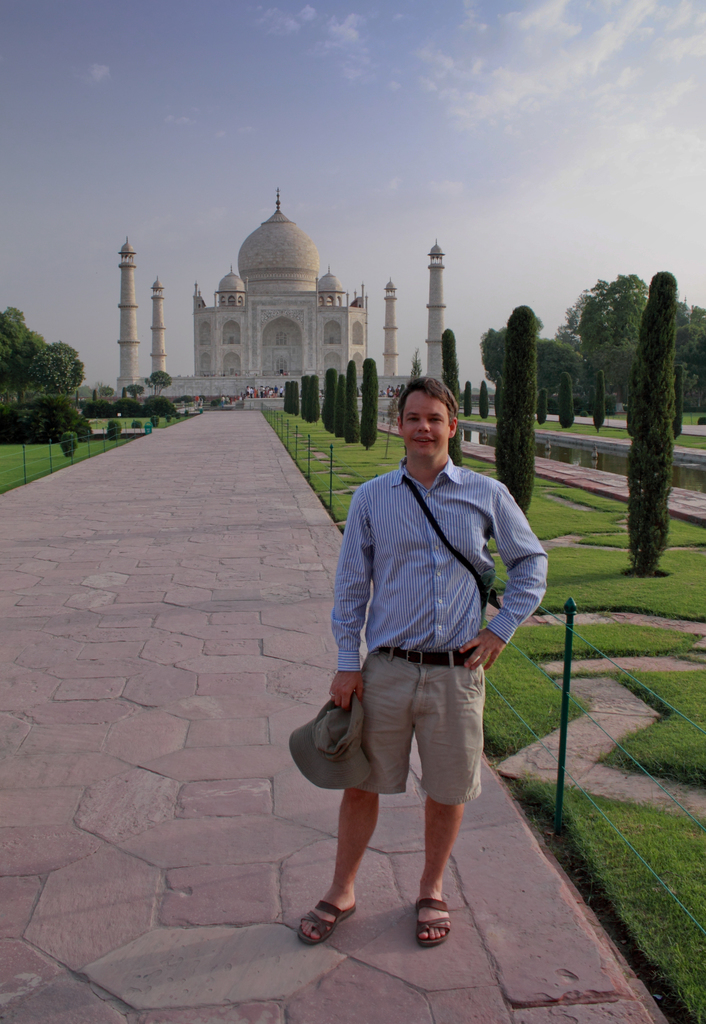Footwear: (405, 881, 465, 964), (297, 898, 357, 947)
